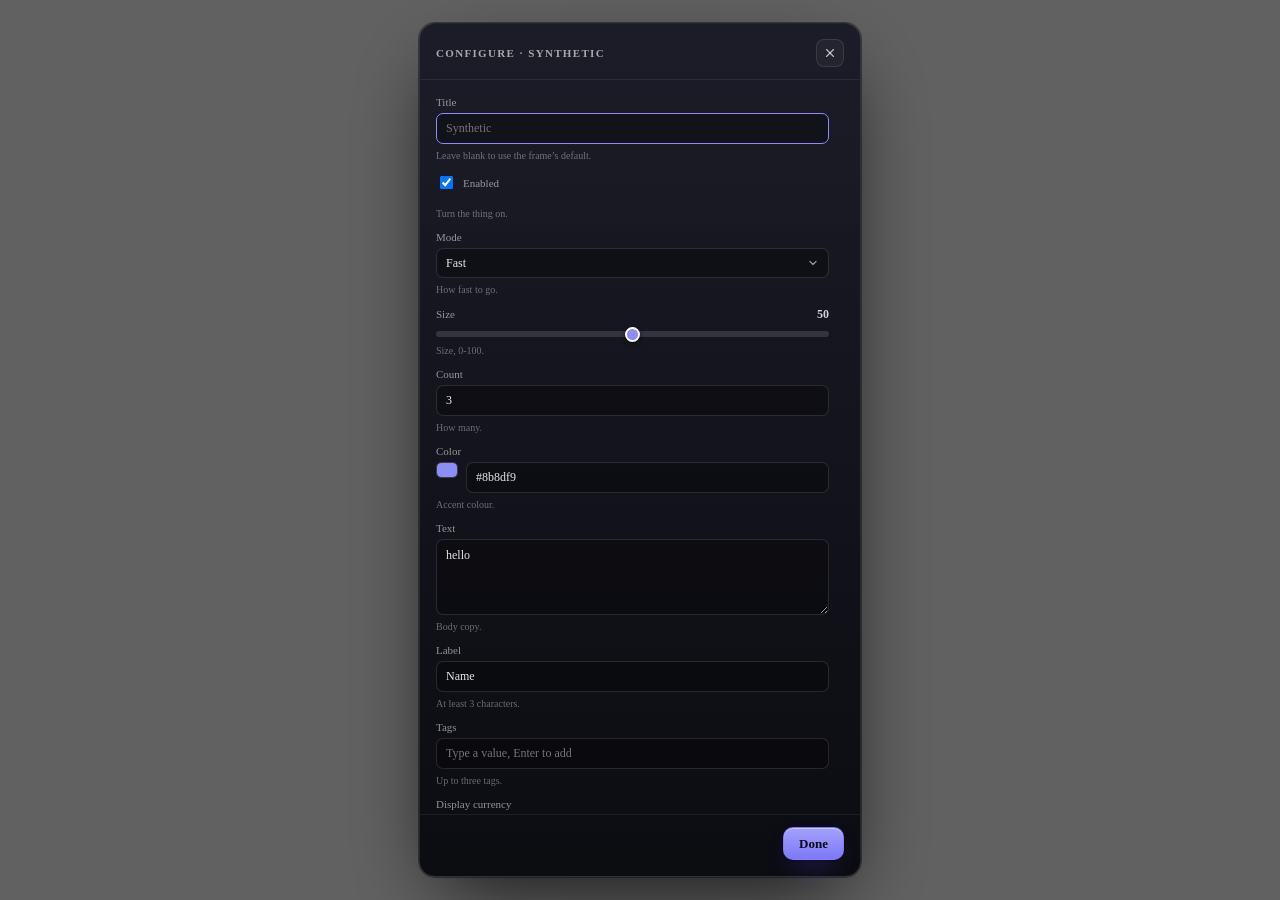
Test case: FrameConfigDialog invalid-draft exits › states that the draft is not applied and won't be saved
Type "ab" into the field with id "zf-cfg-label" at {"x": 632, "y": 676}, box [436,661,829,692]
Wait 200 ms
(page scrolled)
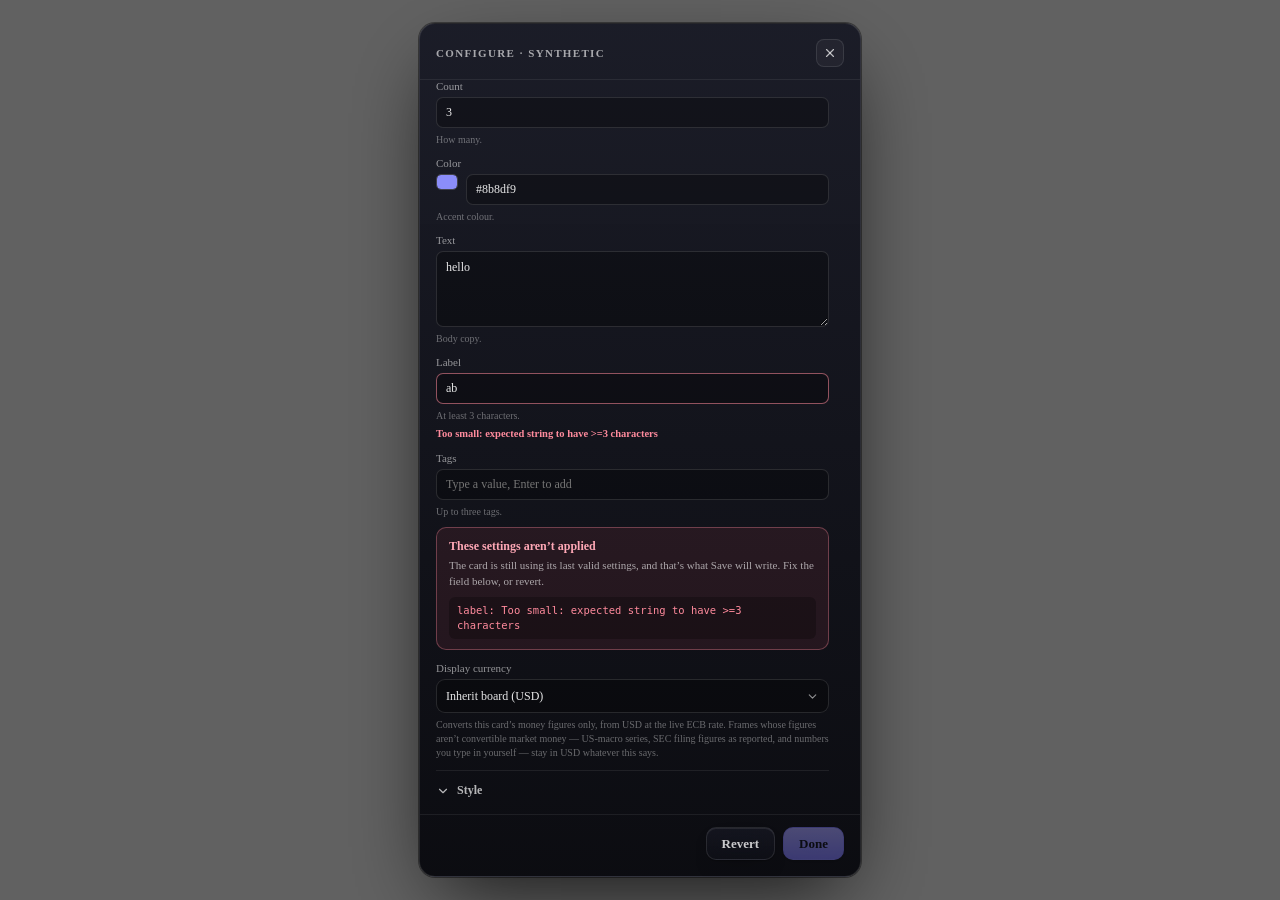
Result: the message shows "aren’t applied" at [449,539,596,553]
Result: the message shows "Save will write" at [449,559,814,587]
Result: the message shows "label" at [457,604,748,631]
